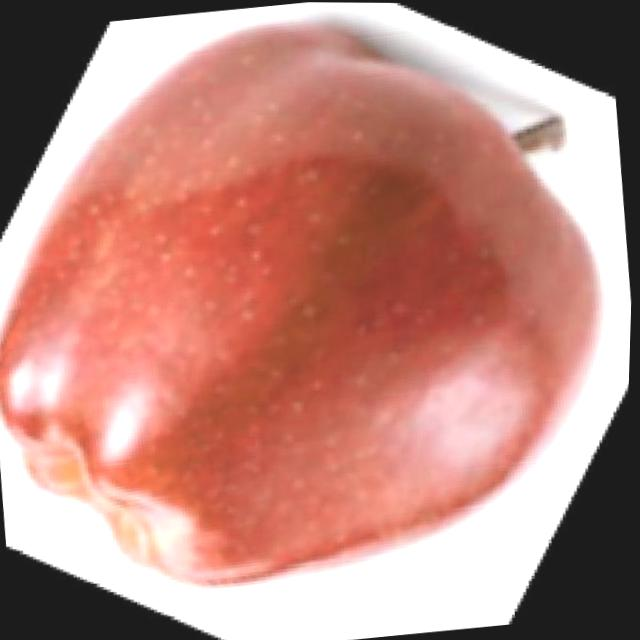Apple: (0, 0, 638, 615)
